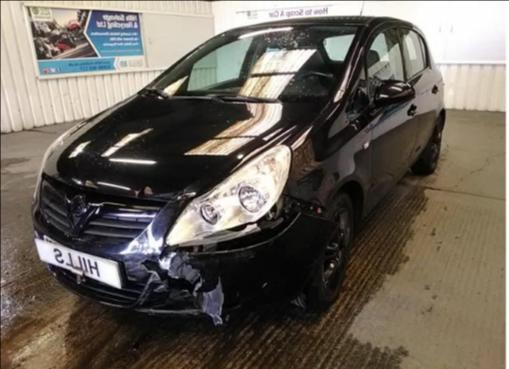Broken part: (27, 193, 341, 328), (164, 146, 291, 250)
